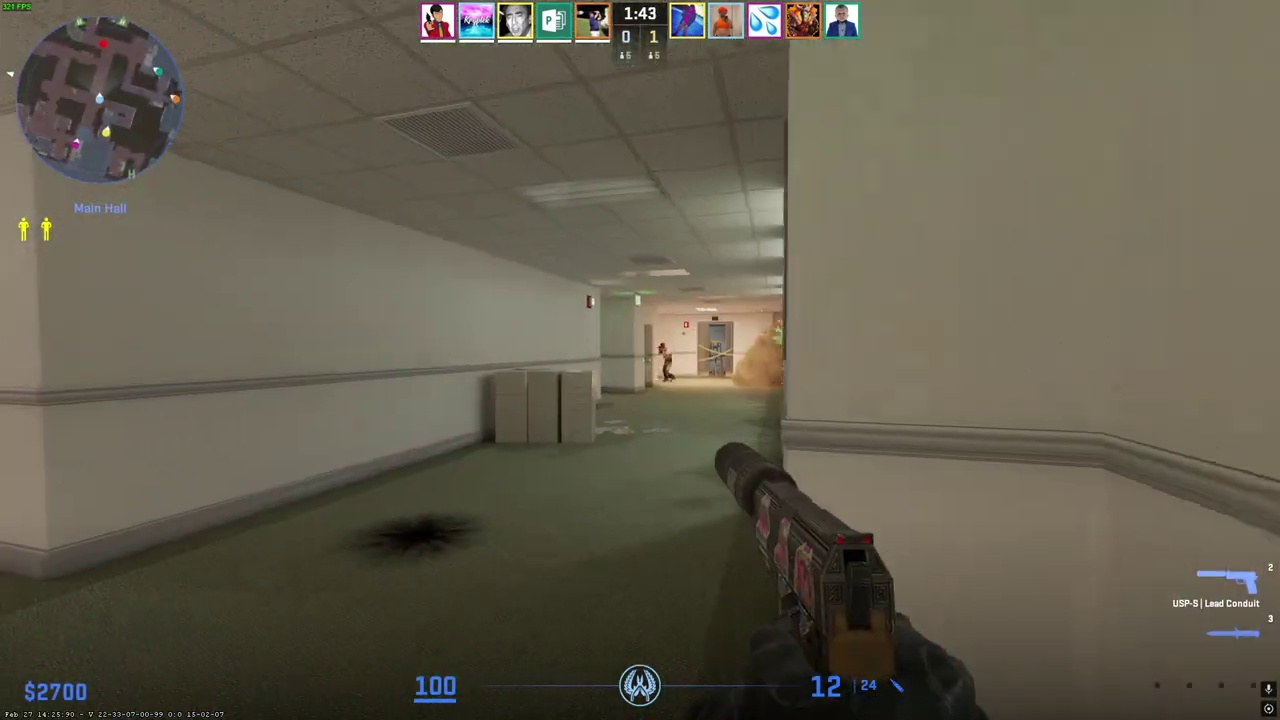Terrorist: (657, 341, 674, 381)
